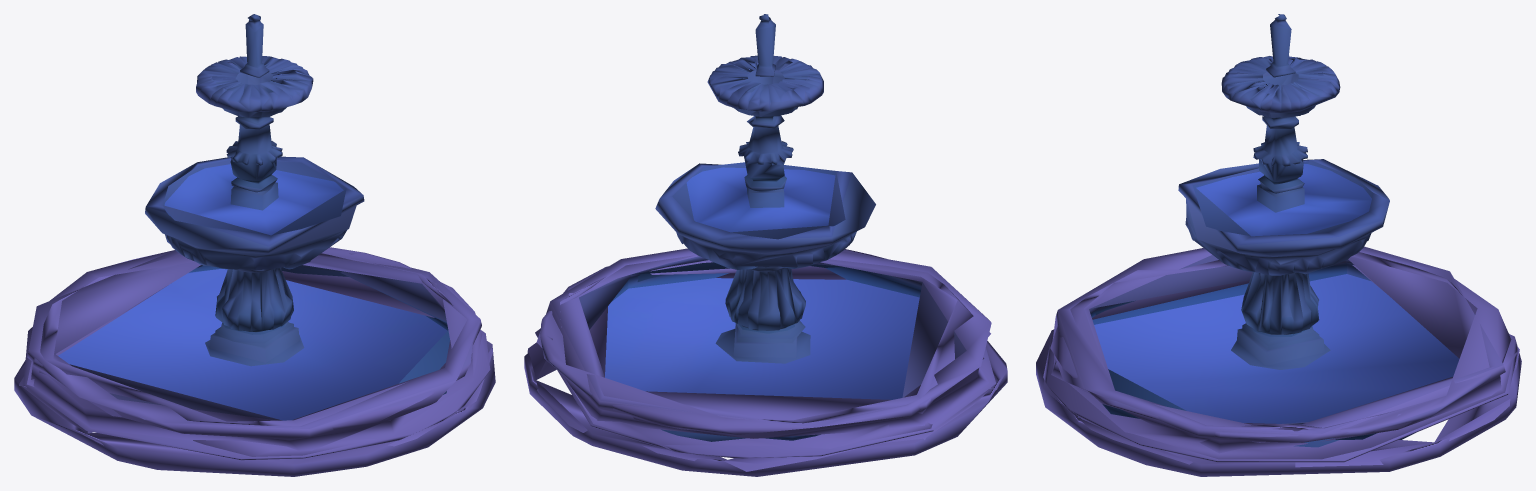
Rendered from model.progressive.glb.
3 views of the same model, side by side, from view 1: azimuth 30°, elevation 25°; view 2: azimuth 150°, elevation 25°; view 3: azimuth 270°, elevation 25° (orthographic).
Parts seen in each view (by area): view 1: material; view 2: material; view 3: material.
Part boxes in pixels (box(x1,y1,x2,y2)): material: box(14, 14, 495, 476); material: box(524, 14, 1007, 476); material: box(1036, 14, 1521, 476).
Size of the model in its own units: 1.85 by 1.56 by 1.89.
1 material, 1 textured.
